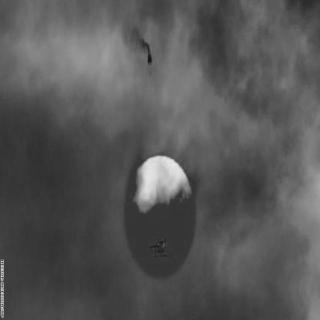Smoke: (208, 19, 316, 300), (130, 15, 200, 138)
other: (122, 158, 205, 284)
